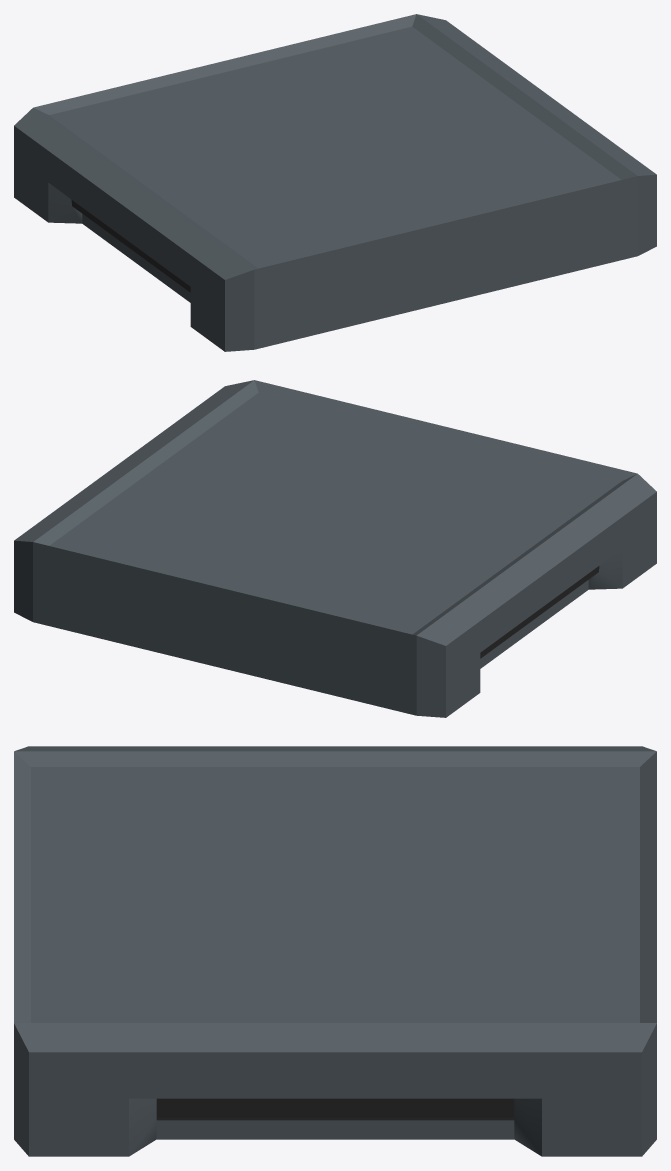
The model's file is SM_Bld_Floor_Small_Walkway_02.fbx.
The picture shows the model from 3 angles, top to bottom: view 1: azimuth 30°, elevation 25°; view 2: azimuth 150°, elevation 25°; view 3: azimuth 270°, elevation 25°; orthographic projection. The views are drawn at different scales.
Parts seen in each view (by area): view 1: SM_Bld_Floor_Small_Walkway_02; view 2: SM_Bld_Floor_Small_Walkway_02; view 3: SM_Bld_Floor_Small_Walkway_02.
Part boxes in pixels (box(x1,y1,x2,y2)): SM_Bld_Floor_Small_Walkway_02: box(14, 14, 656, 351); SM_Bld_Floor_Small_Walkway_02: box(14, 380, 656, 717); SM_Bld_Floor_Small_Walkway_02: box(14, 746, 656, 1156).
Bounding box in the file's own units: 282 × 49.97 × 250.
1 material, 1 textured.
